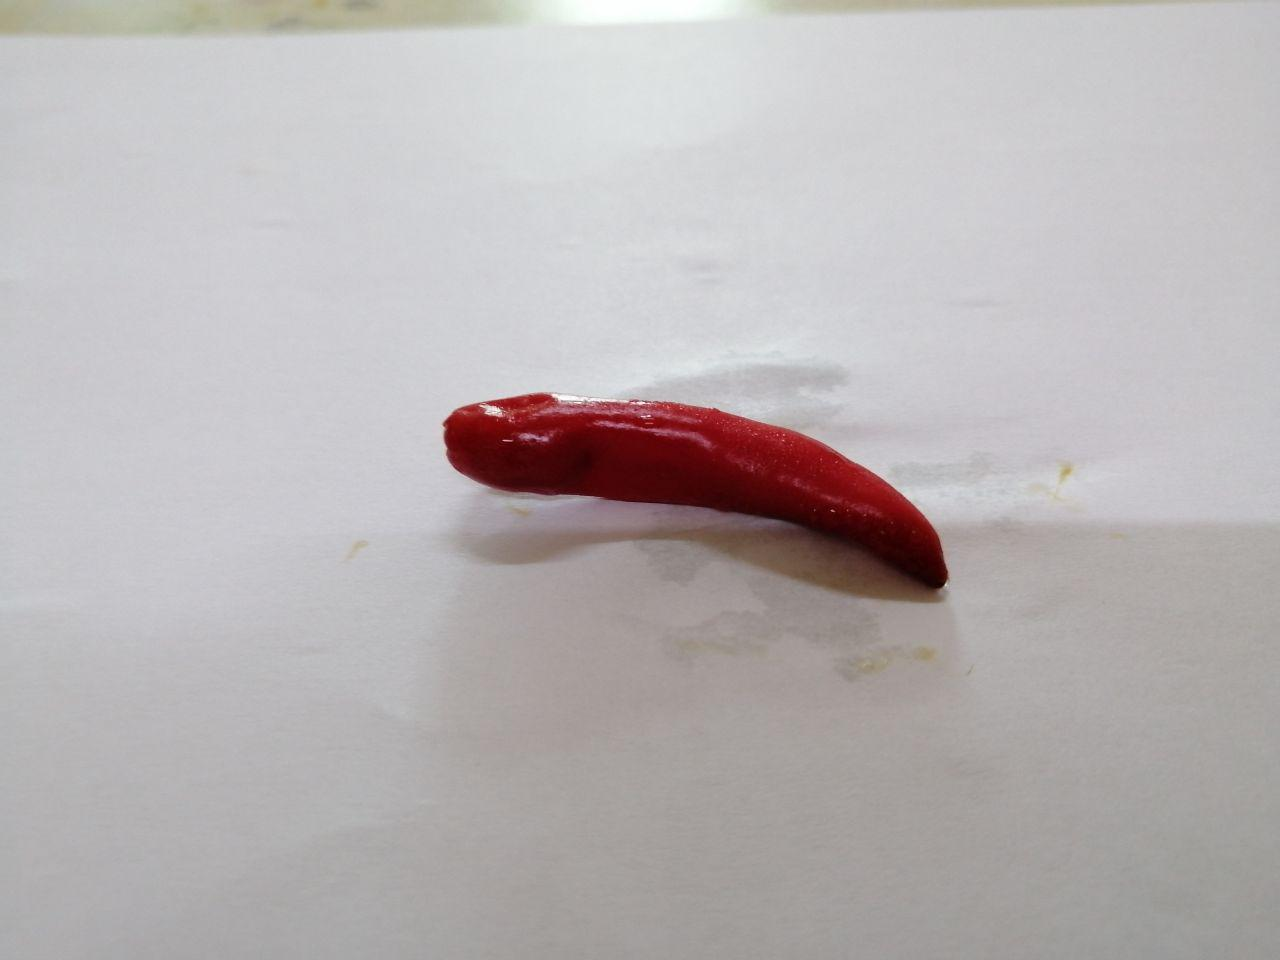lada merah: (424, 371, 975, 621)
